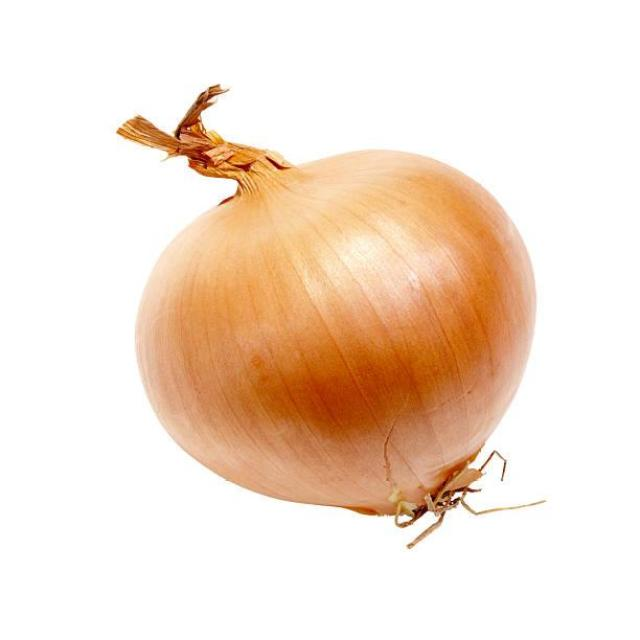Onion: (117, 85, 534, 548)
